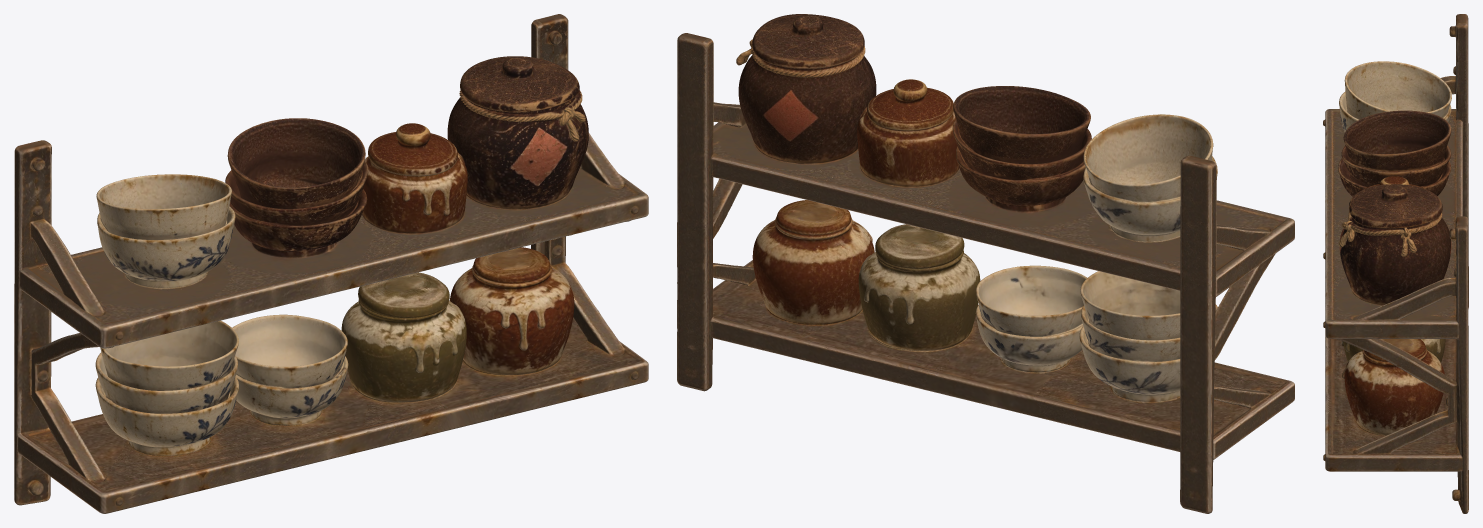
File: k_wallshelf.glb
3 views of the same model, side by side, from view 1: azimuth 30°, elevation 25°; view 2: azimuth 150°, elevation 25°; view 3: azimuth 270°, elevation 25° (orthographic). The views are drawn at different scales.
Bounding box in the file's own units: 1.9 × 1.2 × 0.5448.
1 material, 1 textured.
